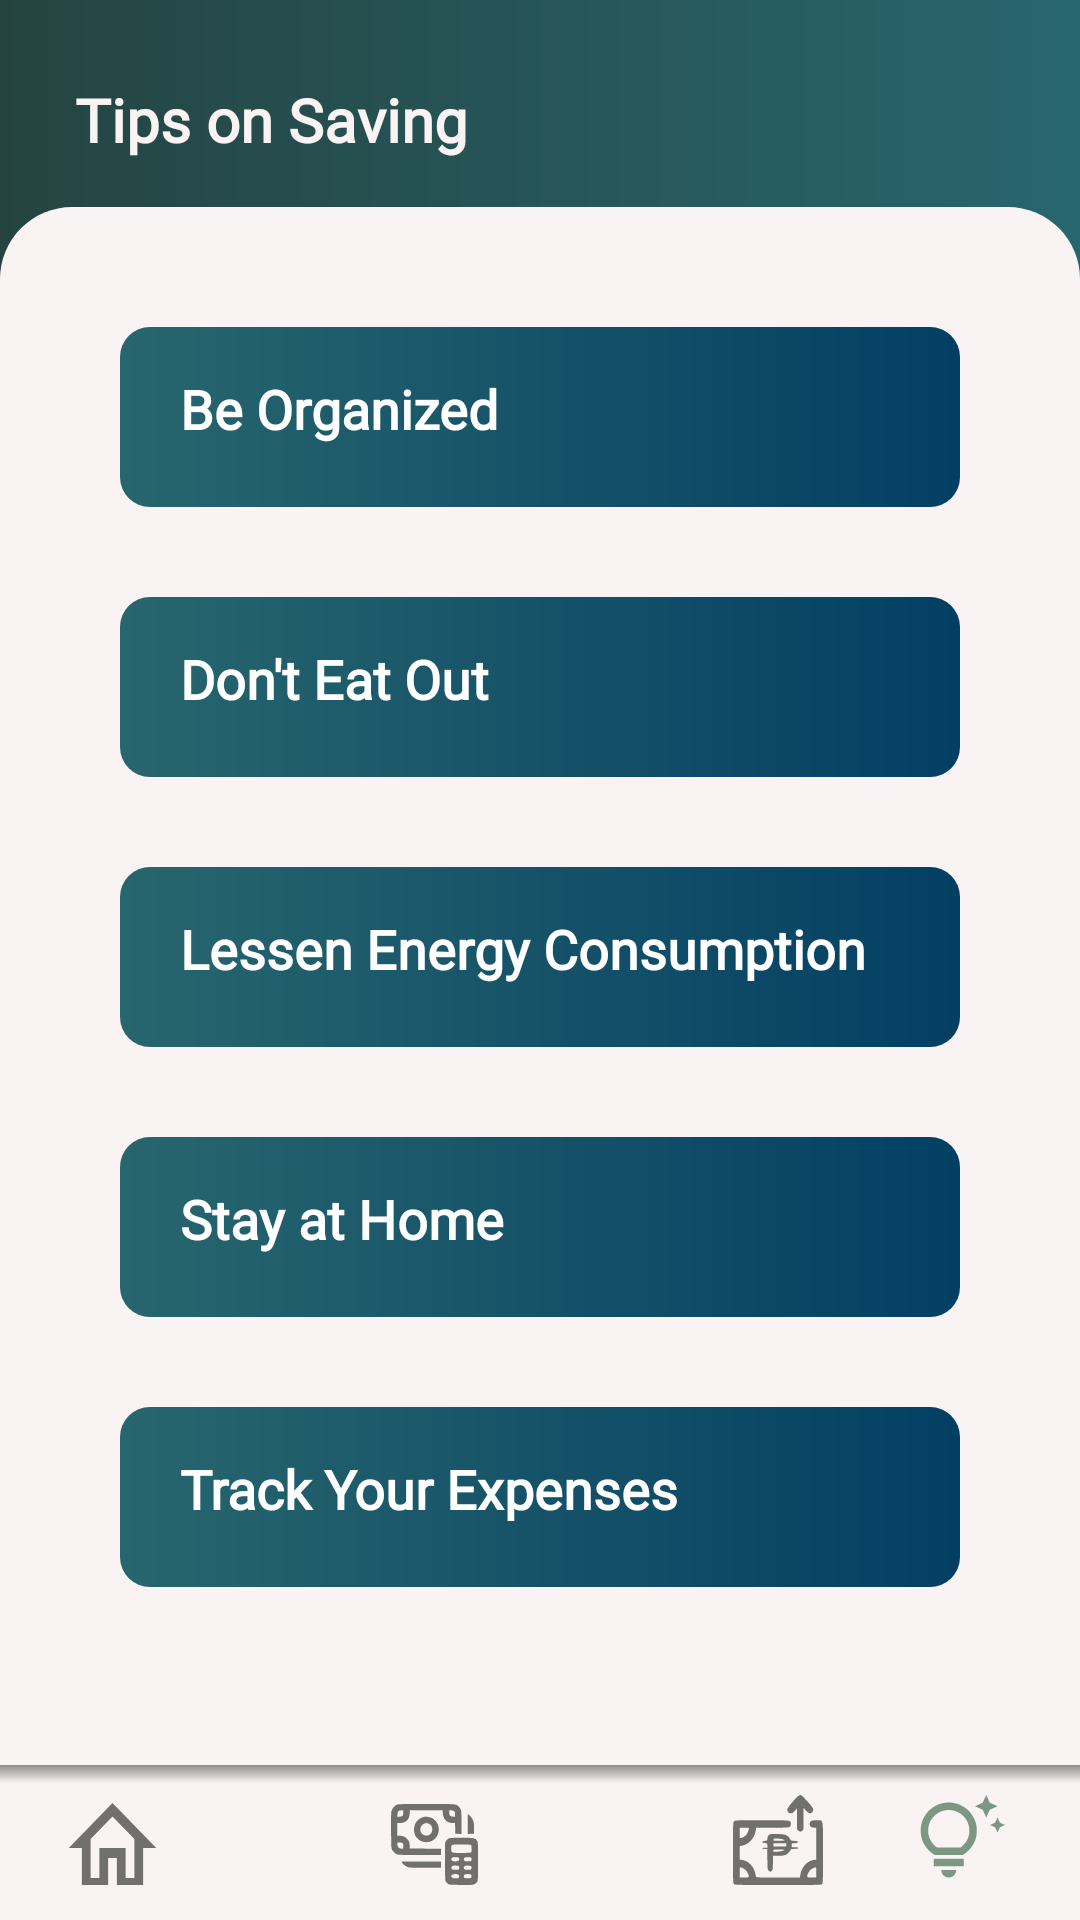

Screen size 1080w x 1920h. Icon name, then its center in pixels as (x=x, y=y):
budget: (x=434, y=1844)
expense: (x=778, y=1840)
tips and updates: (x=962, y=1836)
